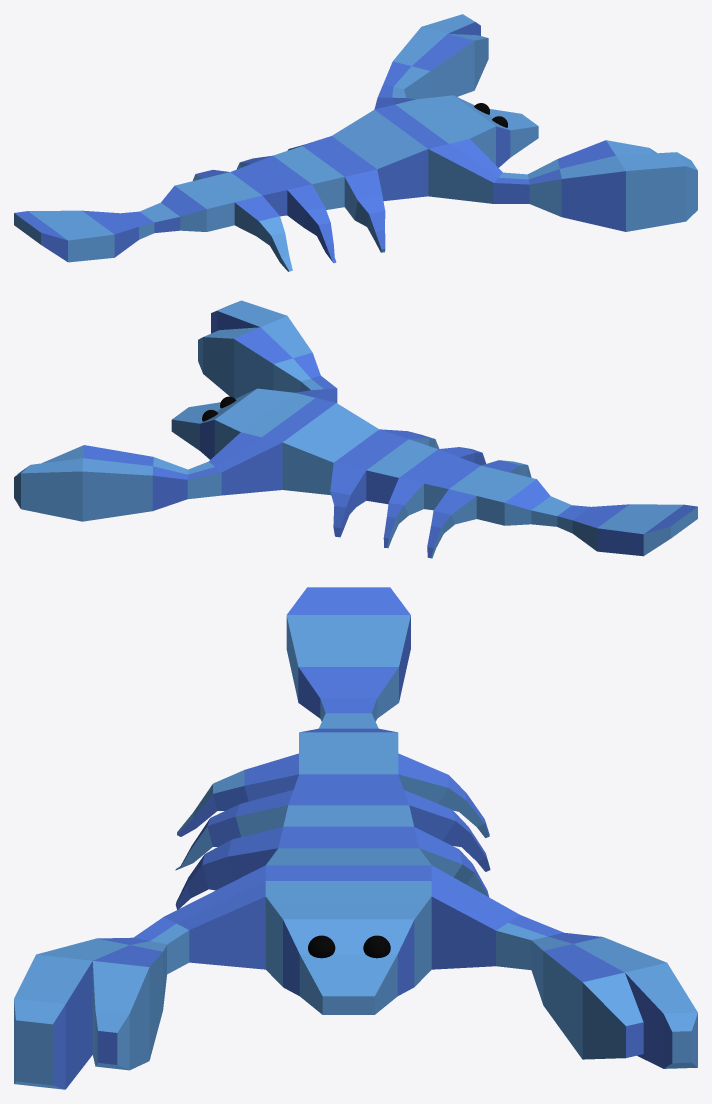
File: easter egg.fbx
3 views of the same model, one above another, from view 1: azimuth 30°, elevation 25°; view 2: azimuth 150°, elevation 25°; view 3: azimuth 270°, elevation 25° (orthographic). The views are drawn at different scales.
Visible parts, largest first — view 1: Cube; view 2: Cube; view 3: Cube.
Part boxes in pixels (x1,y1,x2,y2): Cube: (14, 14, 697, 271); Cube: (14, 300, 697, 558); Cube: (14, 587, 697, 1089).
Size of the model in its own units: 2040 by 230 by 1379.
